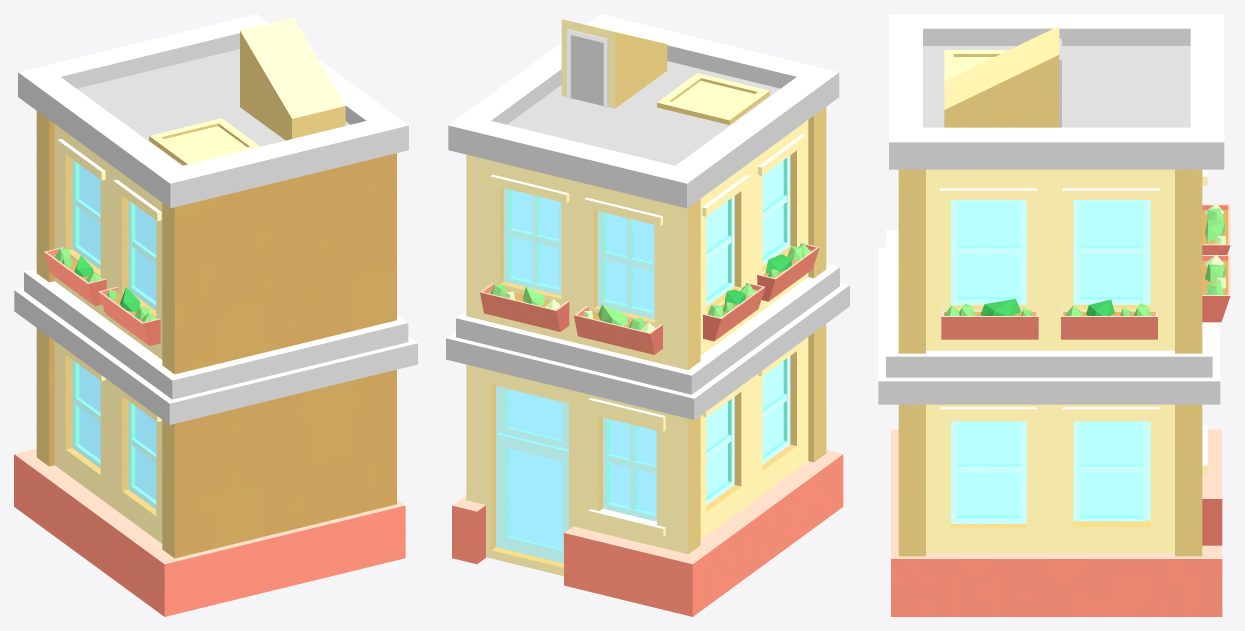
The model's file is dwelling.009.glb.
3 views of the same model, side by side, from view 1: azimuth 30°, elevation 25°; view 2: azimuth 150°, elevation 25°; view 3: azimuth 270°, elevation 25° (orthographic). The views are drawn at different scales.
Parts seen in each view (by area): view 1: dwelling.009(Clone); view 2: dwelling.009(Clone); view 3: dwelling.009(Clone).
Part boxes in pixels (x1,y1,x2,y2): dwelling.009(Clone): (14, 14, 417, 616); dwelling.009(Clone): (446, 14, 849, 616); dwelling.009(Clone): (878, 14, 1230, 616).
Size of the model in its own units: 3.69 by 6.98 by 4.1.
1 material, 1 textured.
